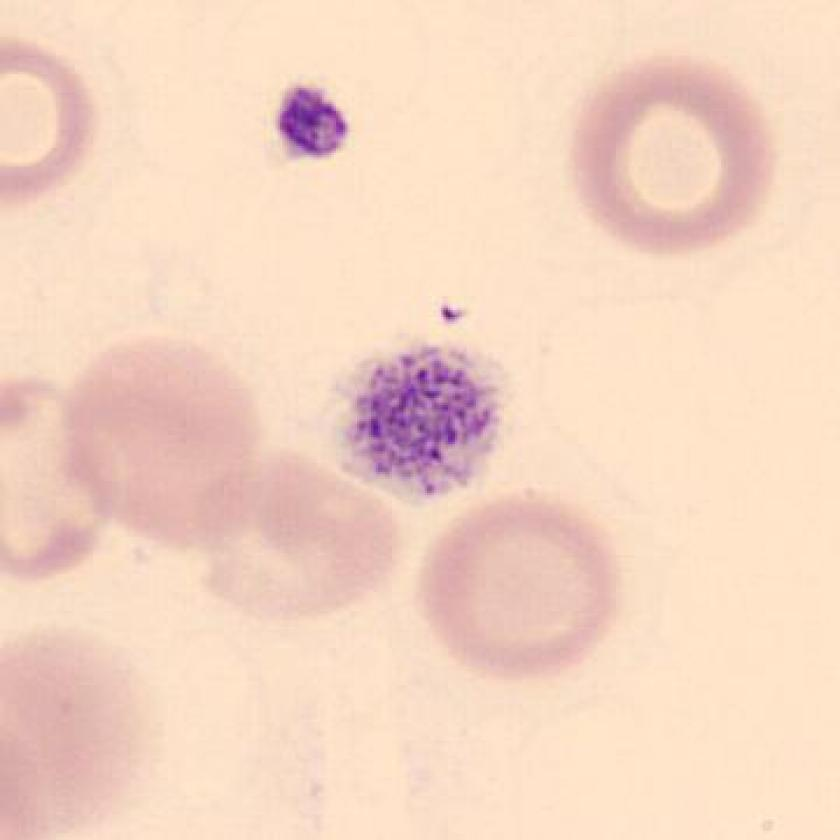platelets: (328, 339, 524, 512), (267, 71, 363, 175)
